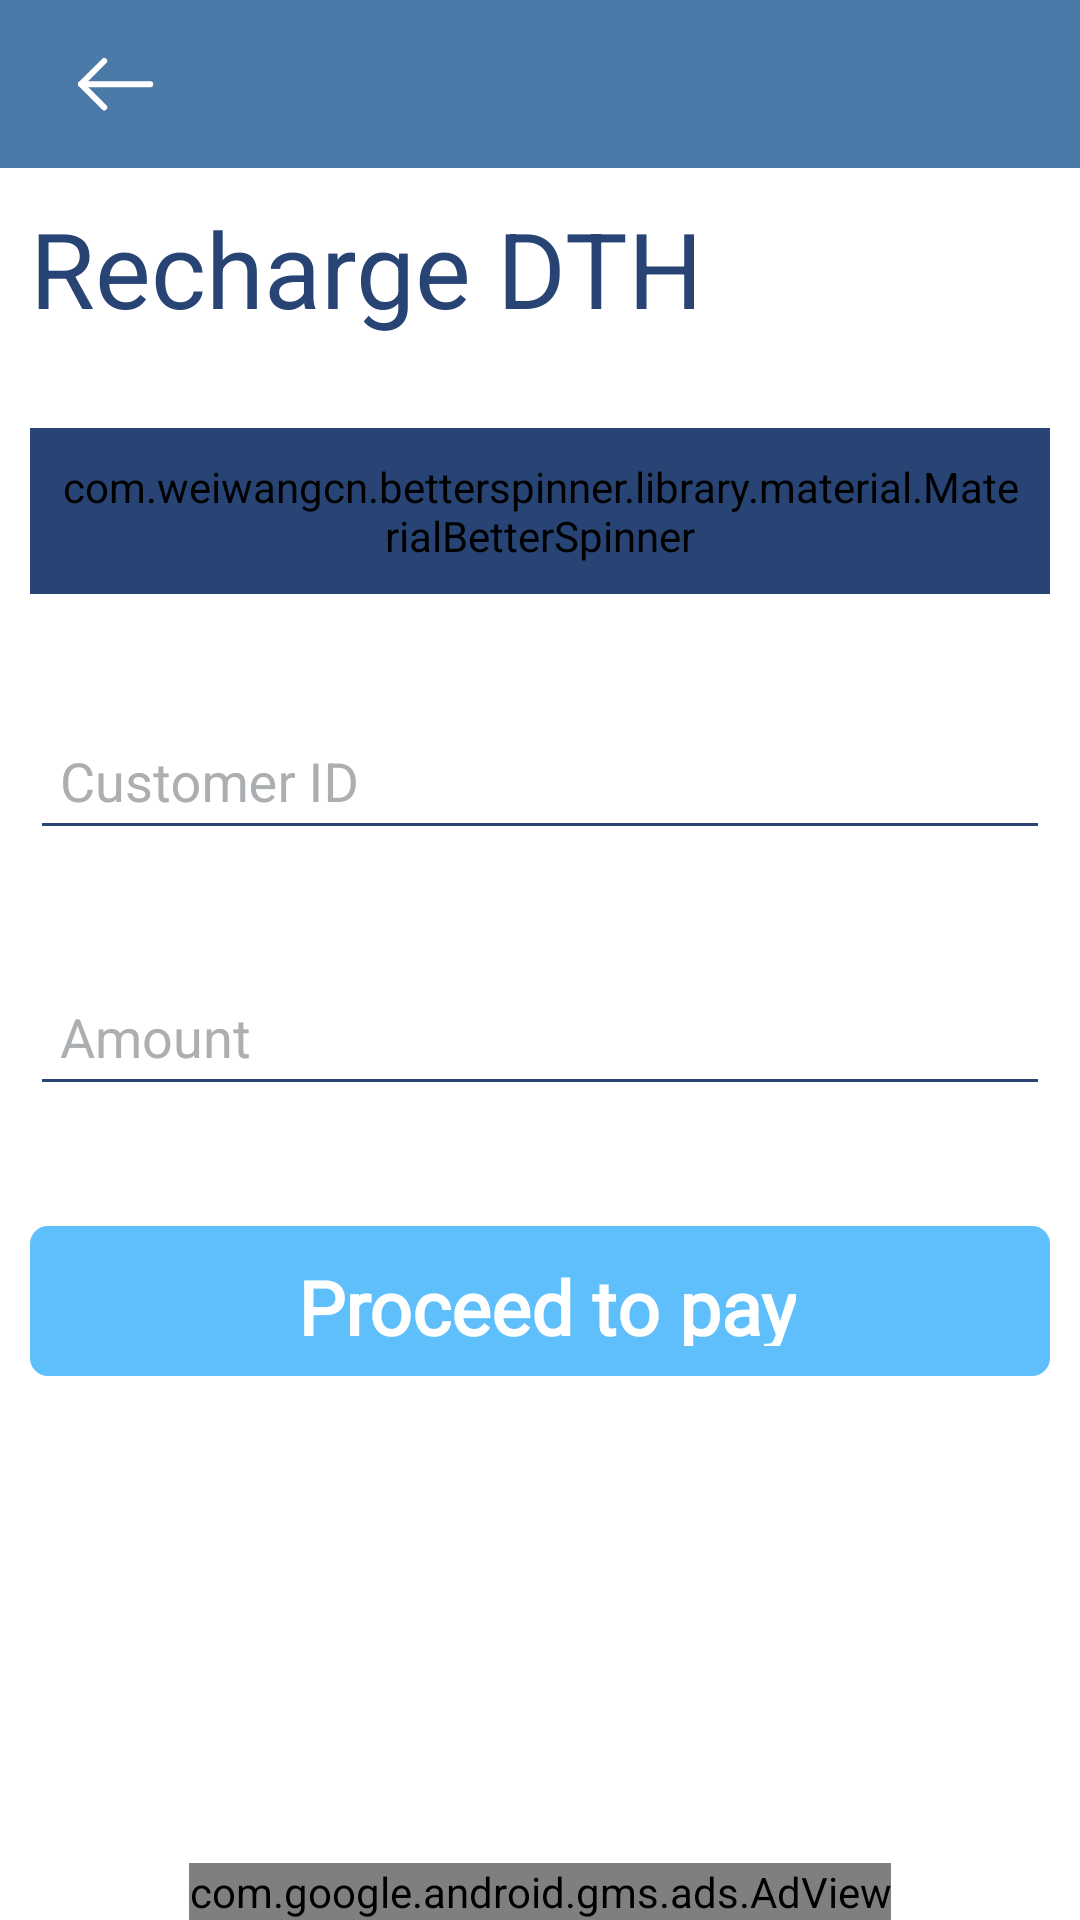

Where to tap for icons on this 1080px x 1920px app screen, as [x,y]:
back: [116,84]
